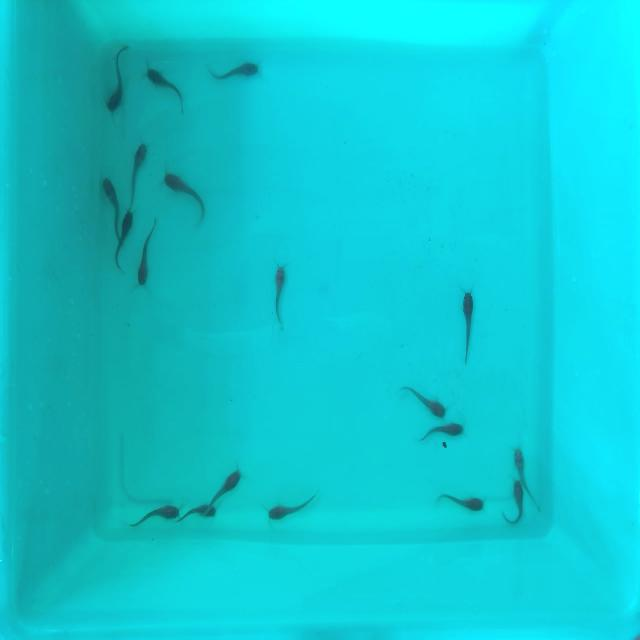lele: (161, 169, 211, 223), (141, 62, 189, 116), (202, 468, 246, 520), (400, 380, 450, 420), (264, 488, 320, 520), (105, 44, 129, 114), (134, 219, 160, 283), (127, 502, 181, 530), (125, 143, 148, 207), (110, 210, 134, 270), (494, 479, 524, 526), (208, 59, 260, 84), (460, 290, 476, 368), (101, 179, 120, 243), (436, 489, 484, 512), (418, 424, 468, 446), (274, 262, 288, 330), (171, 504, 209, 526), (512, 445, 529, 481)
